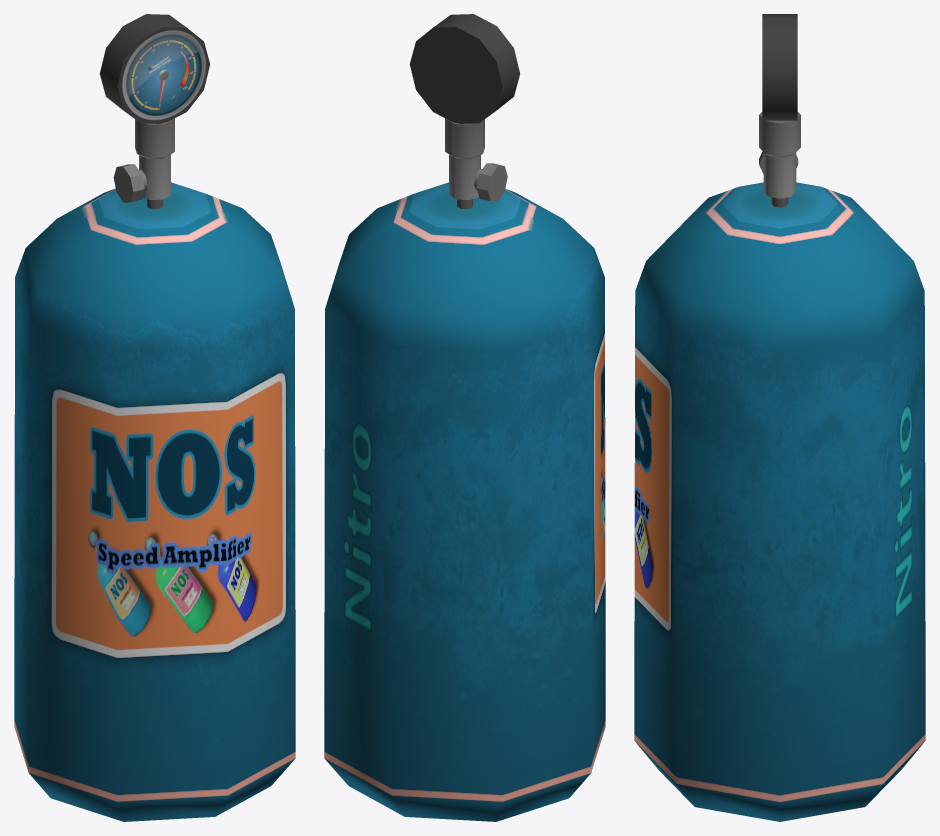
File: nitro.fbx
The picture shows the model from 3 angles, left to right: view 1: azimuth 30°, elevation 25°; view 2: azimuth 150°, elevation 25°; view 3: azimuth 270°, elevation 25°; orthographic projection.
Parts seen in each view (by area): view 1: nitro; view 2: nitro; view 3: nitro.
Boxes of the visible parts, left/top/right/bottom form: nitro: left=14, top=14, right=295, bottom=821; nitro: left=324, top=14, right=605, bottom=821; nitro: left=634, top=14, right=925, bottom=821.
Size of the model in its own units: 1086 by 3092 by 1086.
Materials: 1 (1 with a texture image).
